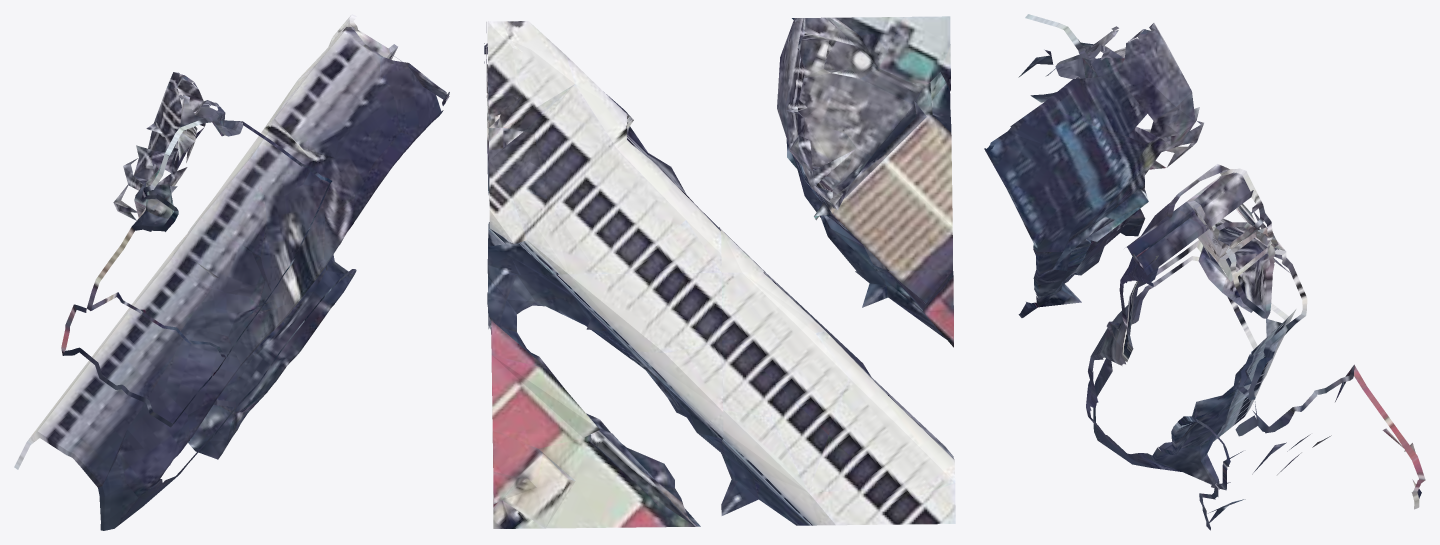
3 renders of one model, left to right at view 1: azimuth 30°, elevation 25°; view 2: azimuth 150°, elevation 25°; view 3: azimuth 270°, elevation 25°, orthographic. The views are drawn at different scales.
Size of the model in its own units: 43.24 by 42.27 by 35.93.
Materials: 2 (2 with a texture image).
